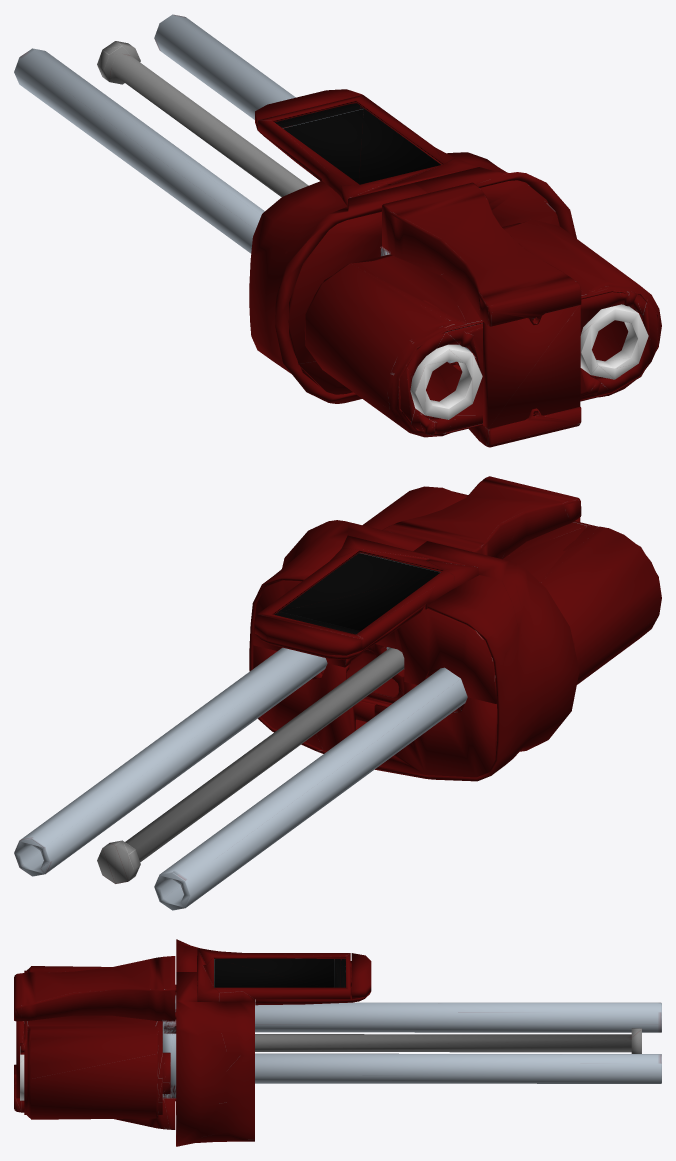
Rendered from torso.obj.
3 views of the same model, one above another, from view 1: azimuth 30°, elevation 25°; view 2: azimuth 150°, elevation 25°; view 3: azimuth 270°, elevation 25° (orthographic). The views are drawn at different scales.
Size of the model in its own units: 0.33 by 0.1973 by 0.8151.
Materials: 1 (1 with a texture image).
